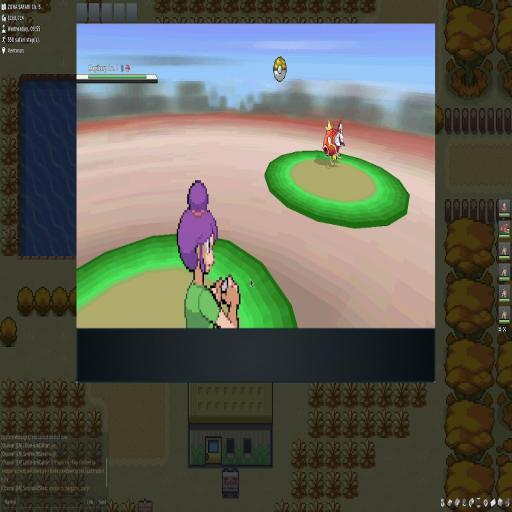MAGIKARP: (321, 120, 346, 166)
